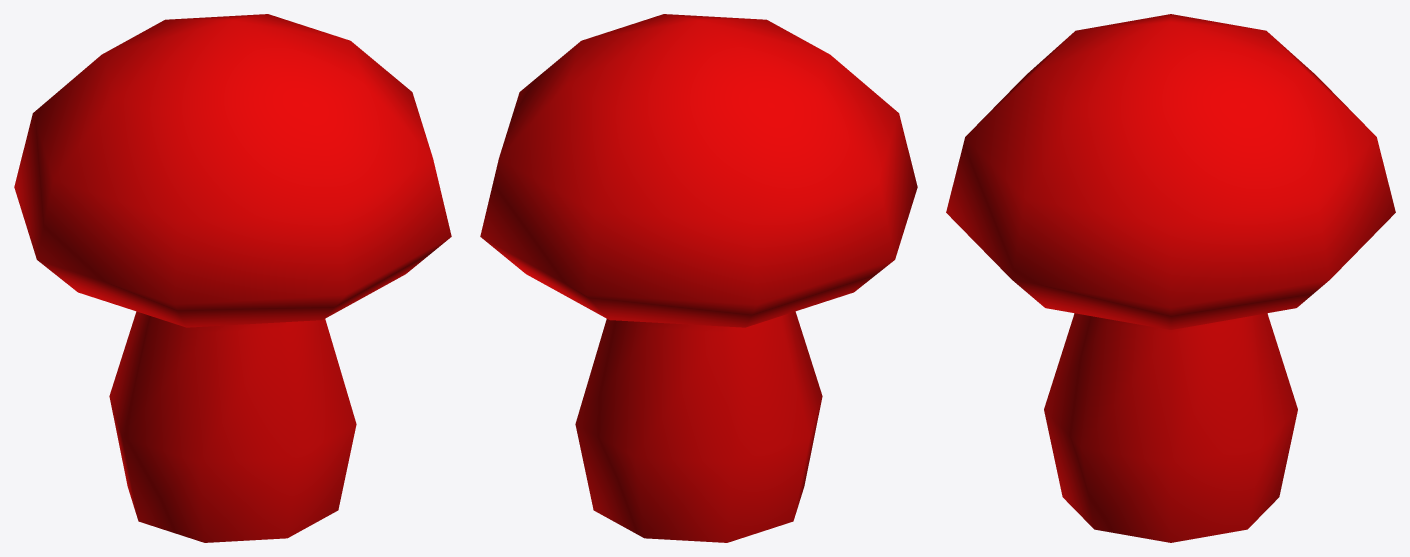
The model's file is Mushroom02.fbx.
The picture shows the model from 3 angles, left to right: view 1: azimuth 30°, elevation 25°; view 2: azimuth 150°, elevation 25°; view 3: azimuth 270°, elevation 25°; orthographic projection.
Parts seen in each view (by area): view 1: Mushroom02; view 2: Mushroom02; view 3: Mushroom02.
Part boxes in pixels (x1=…): Mushroom02: x1=14, y1=14, x2=451, y2=542; Mushroom02: x1=480, y1=14, x2=917, y2=542; Mushroom02: x1=946, y1=14, x2=1395, y2=542.
Bounding box in the file's own units: 0.3314 × 0.386 × 0.3314.
